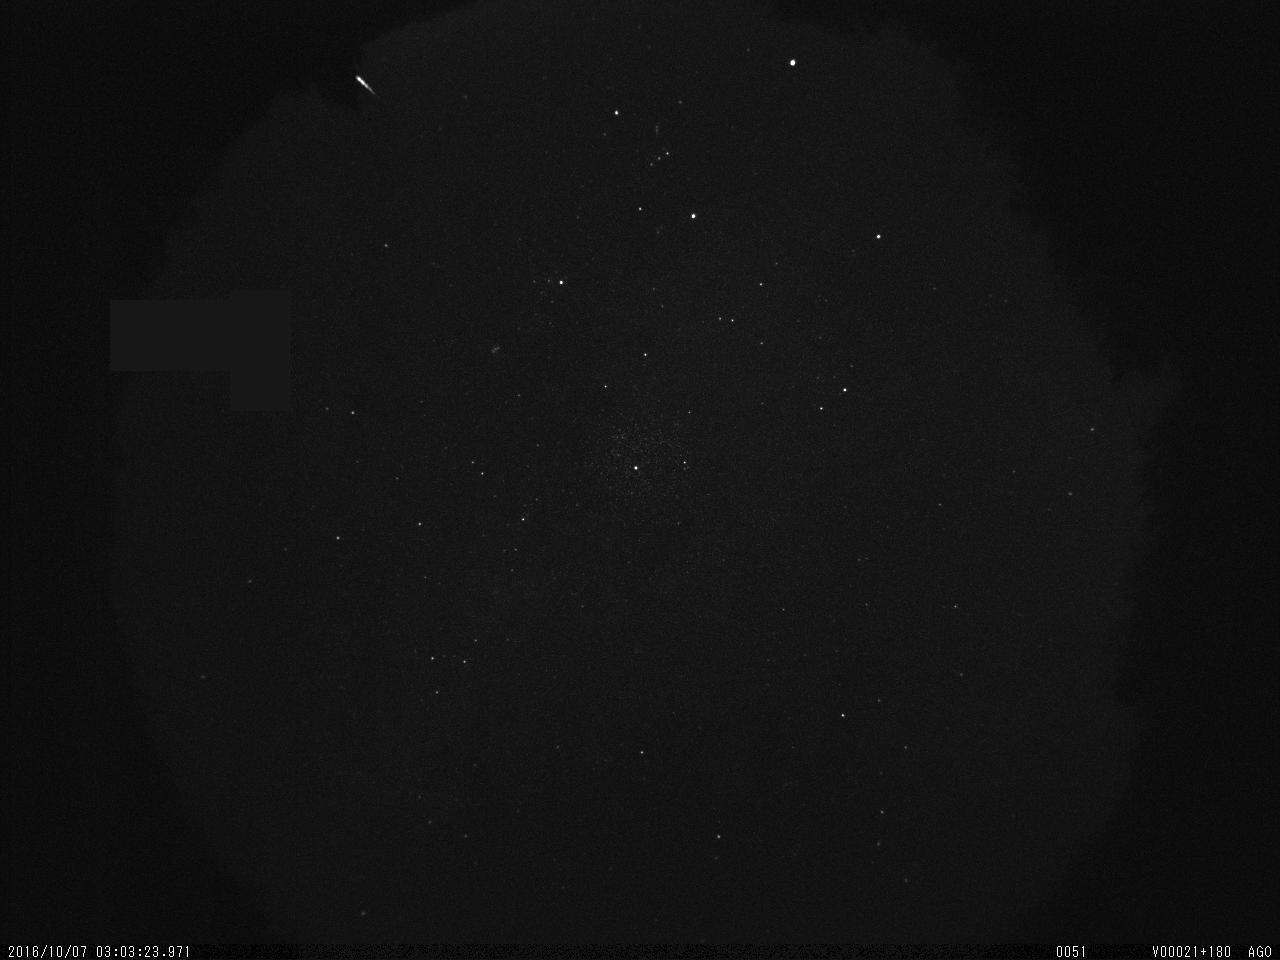meteor: (334, 68, 385, 101)
